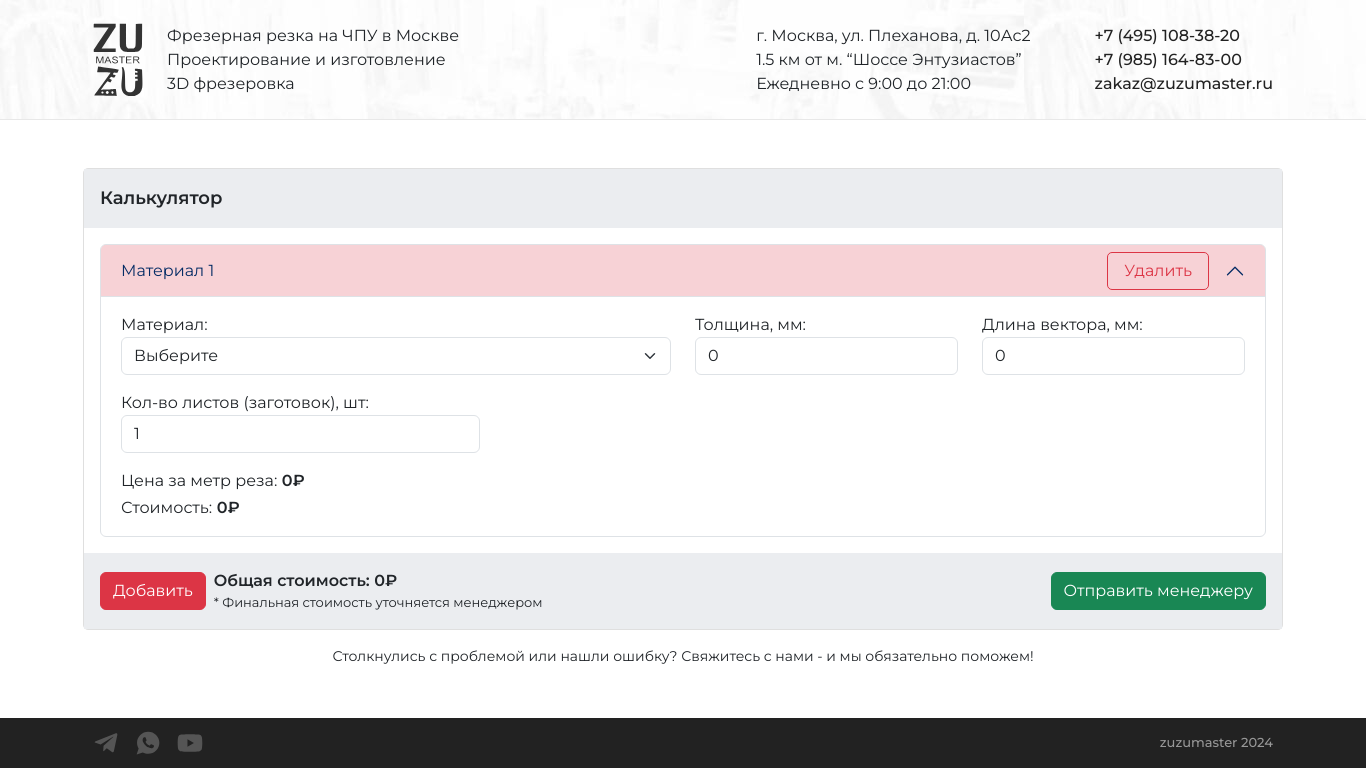
Test case: add/remove material › remove last material
Expected: the text "Калькулятор" is shown, [84, 169, 1282, 228]
Click the button with test id "remove-material-btn". click: (1158, 271)
box: [1107, 252, 1209, 290]
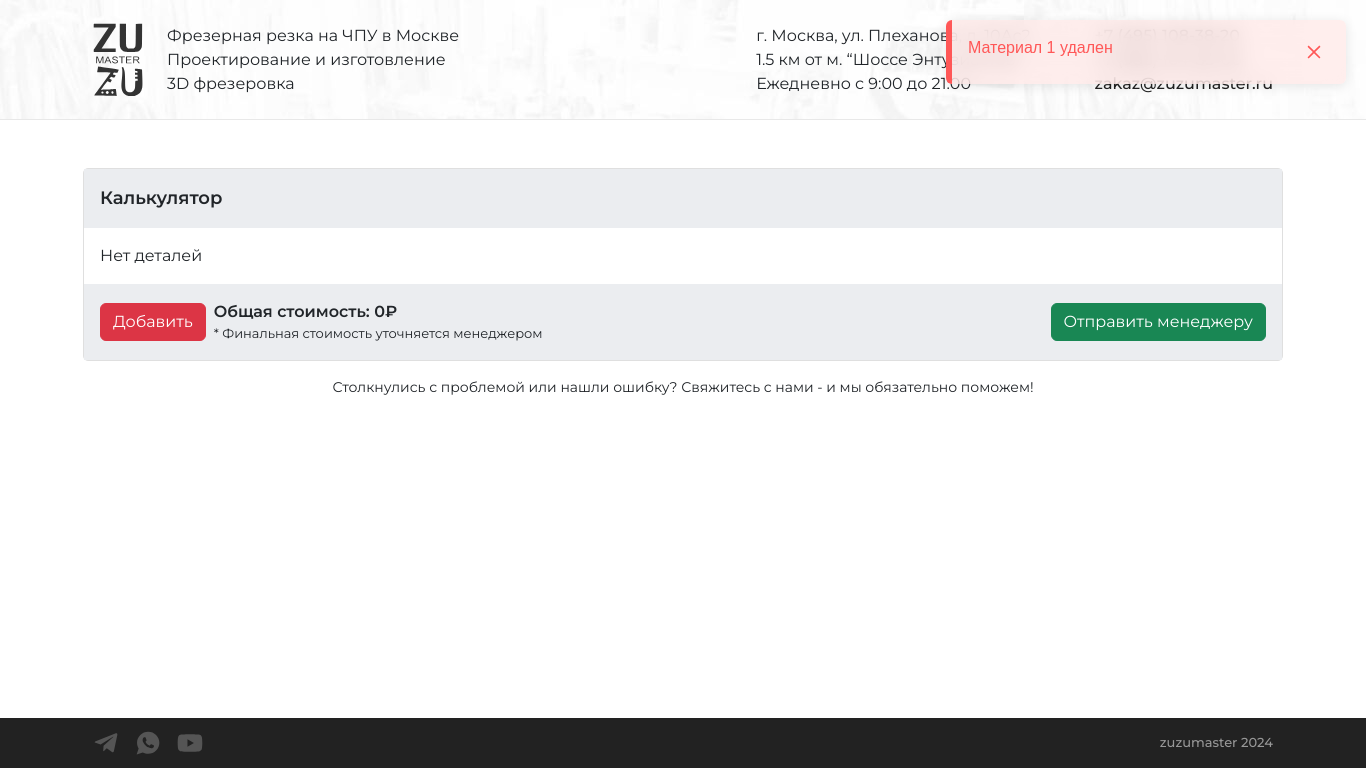
Result: the element with class "accordion" is gone
